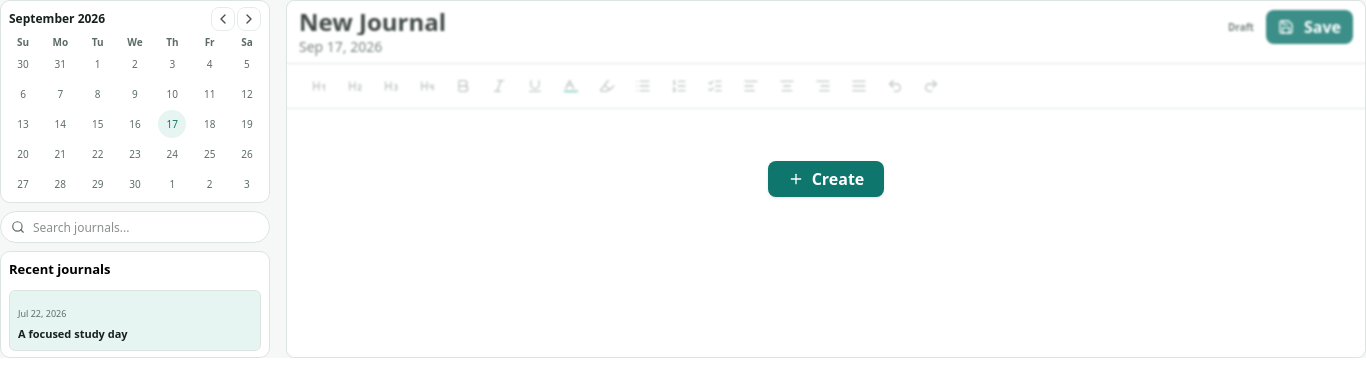
Test: JournalPage workspace redesign › uses Save for a new entry while keeping the date read-only
Step 1. Click the button with test id "create-journal-button" → (826, 179), box [768, 161, 884, 197]
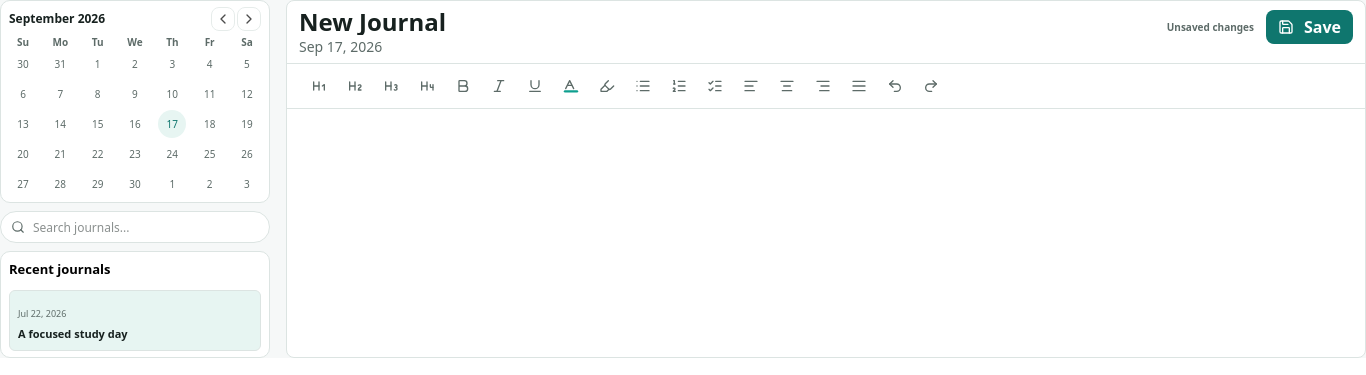
Expected: the button with test id "save-journal-button" reads "Save", [1266, 10, 1353, 44]
Expected: the button with test id "save-journal-button" no longer shows "Create", [1266, 10, 1353, 44]
